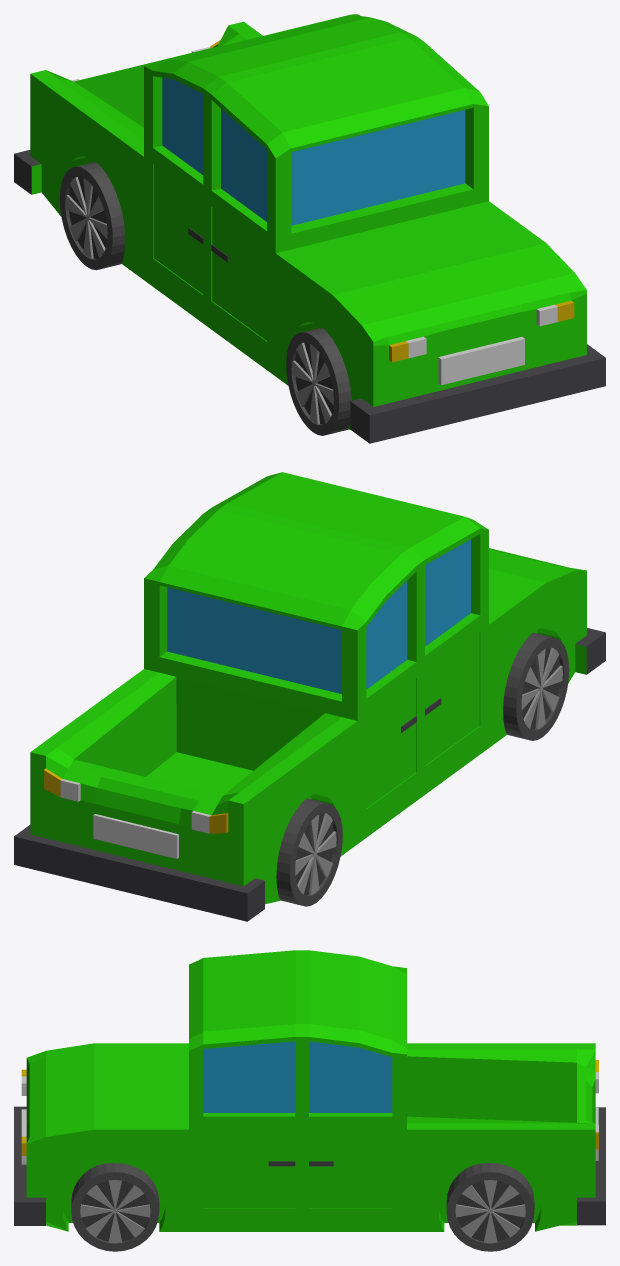
Rendered from greenCar.fbx.
3 views of the same model, one above another, from view 1: azimuth 30°, elevation 25°; view 2: azimuth 150°, elevation 25°; view 3: azimuth 270°, elevation 25° (orthographic). The views are drawn at different scales.
Visible parts, largest first — view 1: GreenCar; view 2: GreenCar; view 3: GreenCar.
Part boxes in pixels (x1=…): GreenCar: x1=14, y1=14, x2=605, y2=443; GreenCar: x1=14, y1=472, x2=605, y2=921; GreenCar: x1=14, y1=950, x2=605, y2=1251.
Size of the model in its own units: 2.42 by 2.58 by 6.33.
